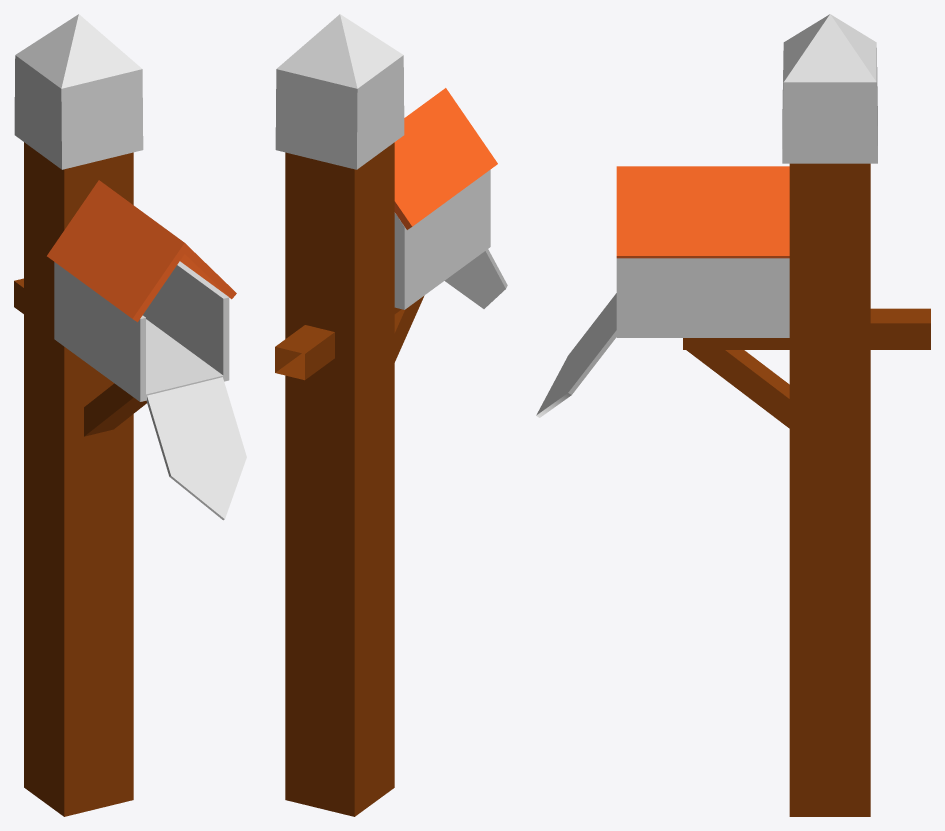
Rendered from letter_box_1.FBX.
The picture shows the model from 3 angles, left to right: view 1: azimuth 30°, elevation 25°; view 2: azimuth 150°, elevation 25°; view 3: azimuth 270°, elevation 25°; orthographic projection.
Parts seen in each view (by area): view 1: letter_box_1; view 2: letter_box_1; view 3: letter_box_1.
Boxes of the visible parts, left/top/right/bottom form: letter_box_1: left=14, top=14, right=246, bottom=816; letter_box_1: left=275, top=14, right=507, bottom=816; letter_box_1: left=536, top=14, right=930, bottom=816.
Bounding box in the file's own units: 0.2783 × 1.98 × 0.9031.
1 material, 1 textured.
